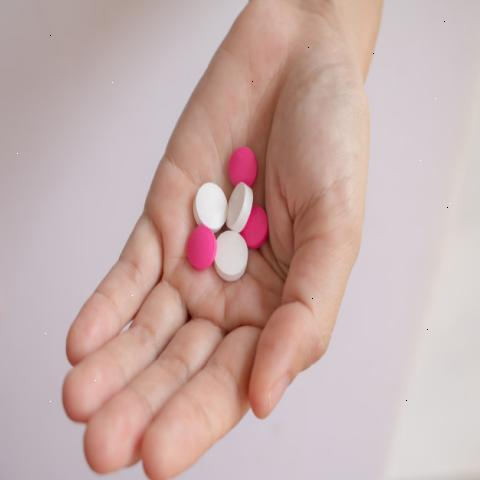Pill: (191, 178, 231, 232), (216, 232, 252, 283), (227, 178, 253, 232)
